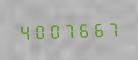four: (17, 21, 31, 41)
seven: (107, 18, 121, 38), (62, 20, 76, 39)
six: (77, 19, 91, 39), (92, 19, 106, 38)
zero: (47, 20, 61, 40), (32, 21, 46, 40)
